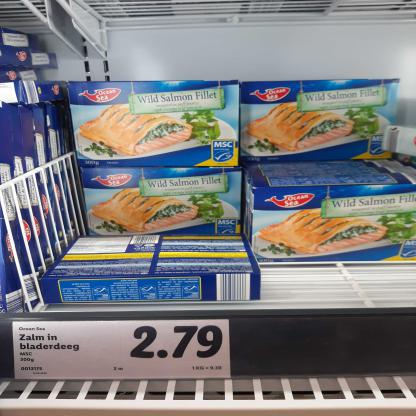prtg: (13, 320, 232, 379)
